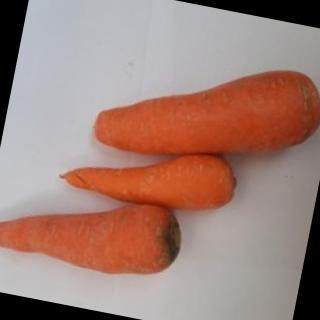Wortel: (91, 35, 320, 187), (1, 172, 187, 287), (54, 126, 245, 227)
